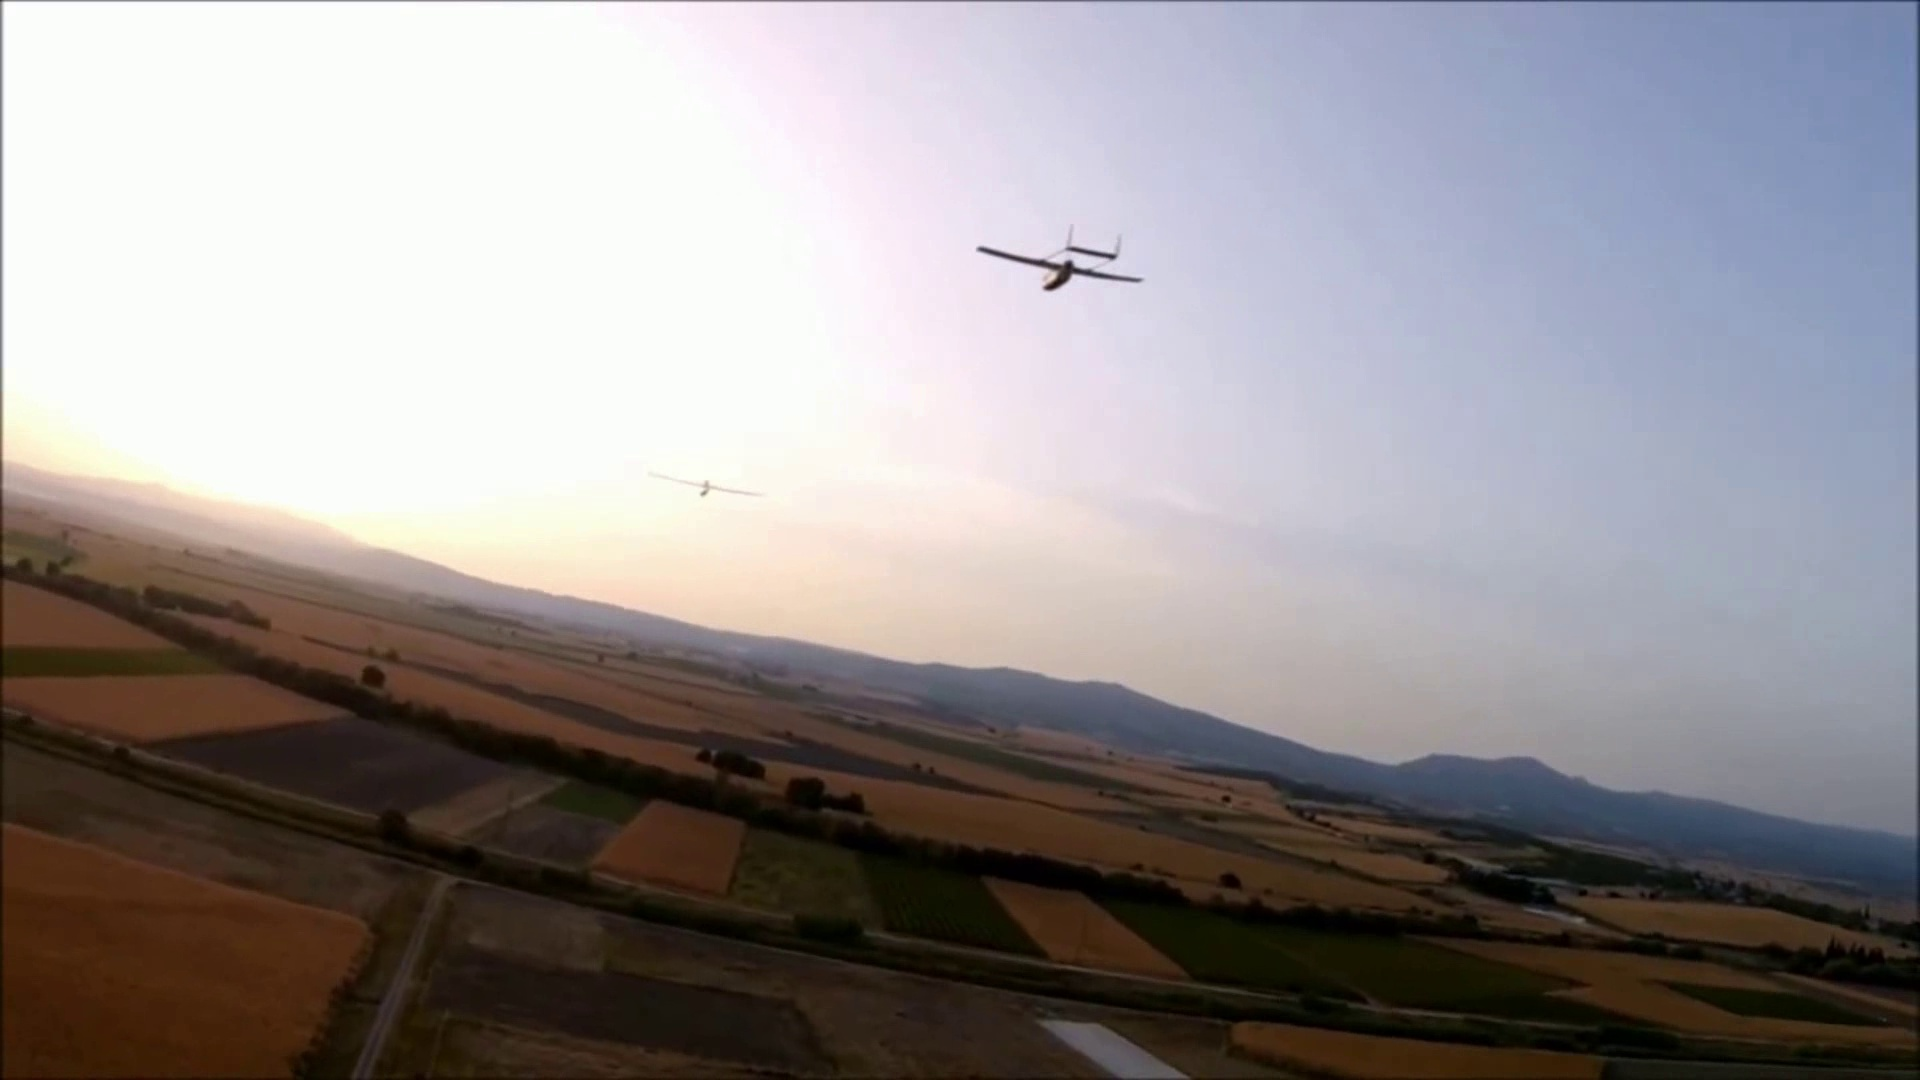airplane: (7, 378, 1899, 938), (972, 225, 1149, 290), (645, 471, 766, 500)
